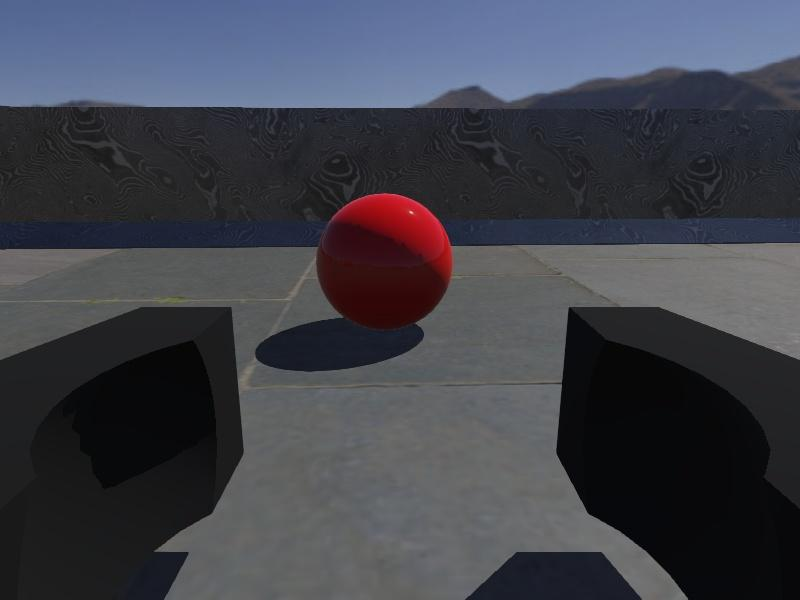red ball: (315, 192, 454, 332)
